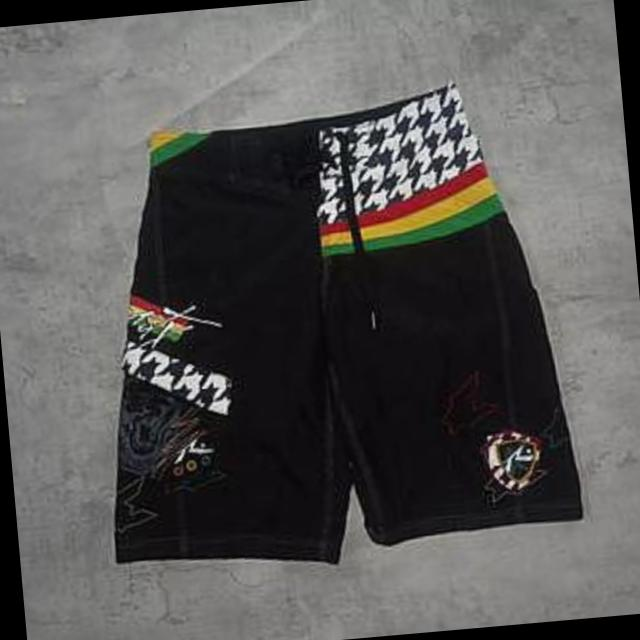SHORT: (63, 71, 622, 587)
